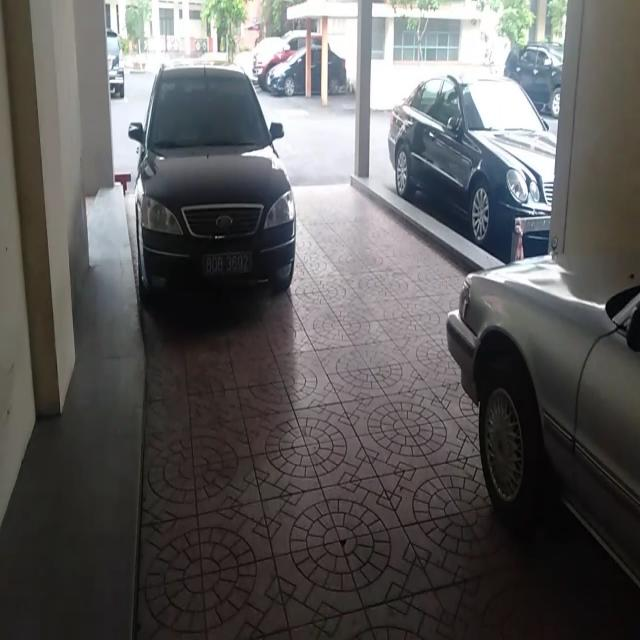bien_xanh: (205, 248, 252, 274)
